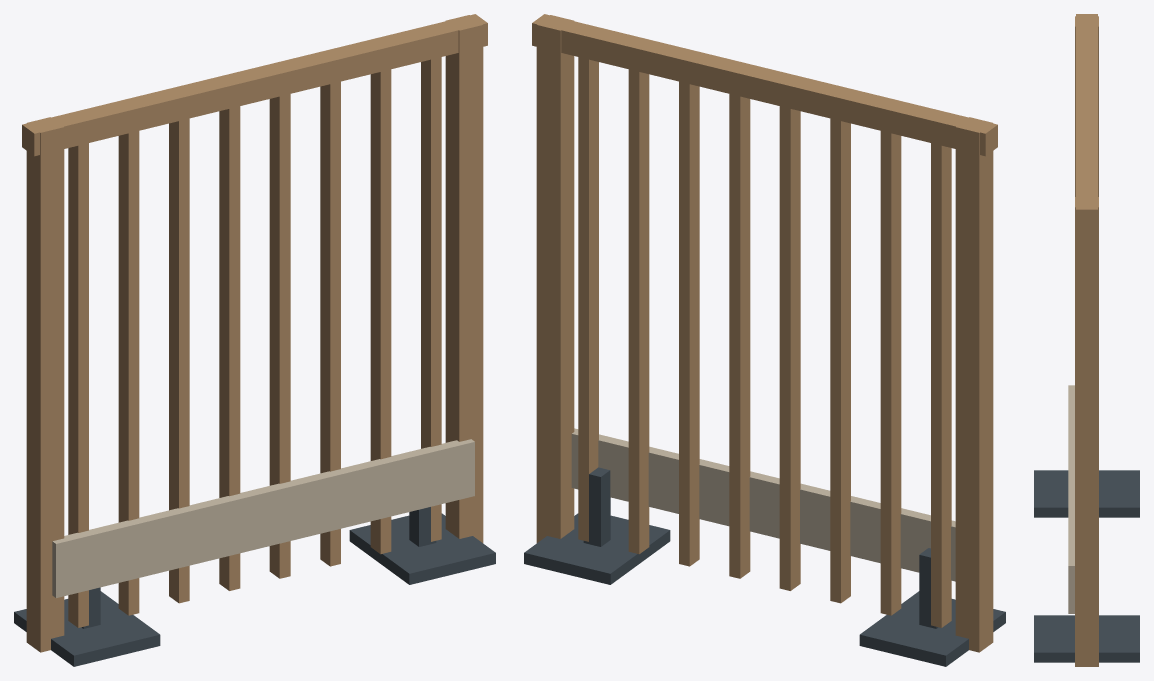
The model's file is separator-1.glb.
The picture shows the model from 3 angles, left to right: view 1: azimuth 30°, elevation 25°; view 2: azimuth 150°, elevation 25°; view 3: azimuth 270°, elevation 25°; orthographic projection. The views are drawn at different scales.
Parts seen in each view (by area): view 1: separator:1:editor; view 2: separator:1:editor; view 3: separator:1:editor.
Boxes of the visible parts, x1,y1,x2,y2 form: separator:1:editor: (14,14,495,666); separator:1:editor: (524,14,1005,666); separator:1:editor: (1034,14,1139,666).
Bounding box in the file's own units: 1.05 × 1.15 × 0.24.
